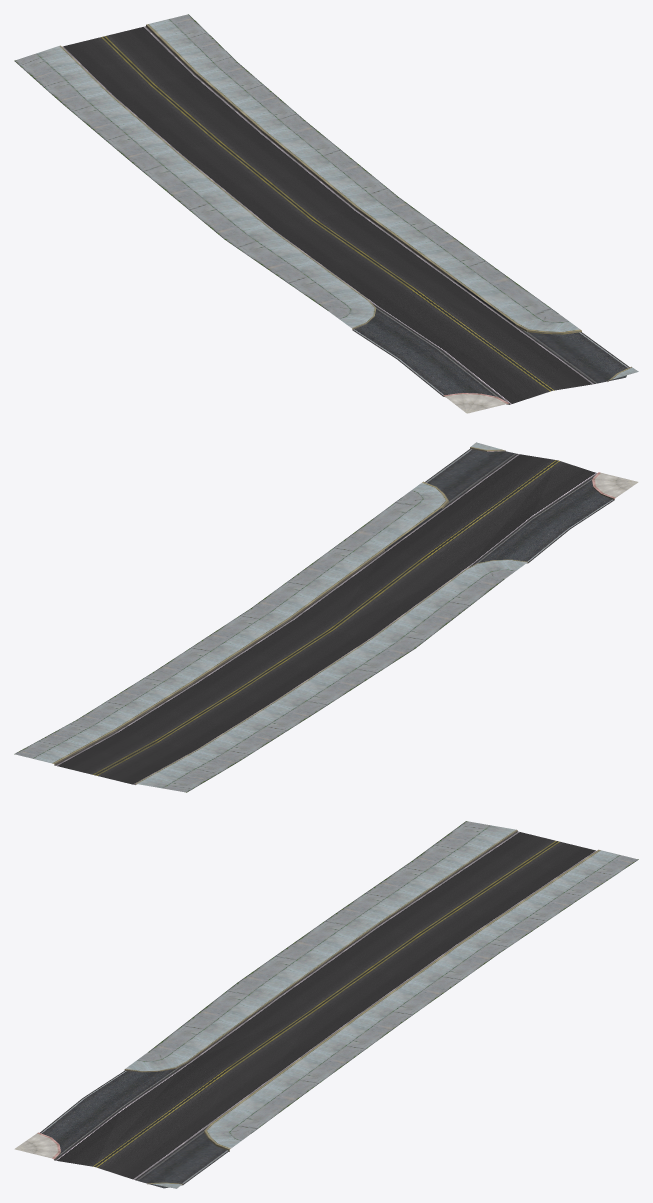
File: road_lawn36.obj
The picture shows the model from 3 angles, top to bottom: view 1: azimuth 30°, elevation 25°; view 2: azimuth 150°, elevation 25°; view 3: azimuth 330°, elevation 25°; orthographic projection. The views are drawn at different scales.
Parts seen in each view (by area): view 1: road_lawn36; view 2: road_lawn36; view 3: road_lawn36.
Boxes of the visible parts, x1,y1,x2,y2 form: road_lawn36: (14,14,638,413); road_lawn36: (14,442,638,792); road_lawn36: (14,821,638,1188).
Size of the model in its own units: 22.77 by 1.35 by 95.19.
